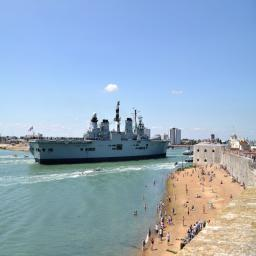Portanaves: (28, 100, 173, 167)
